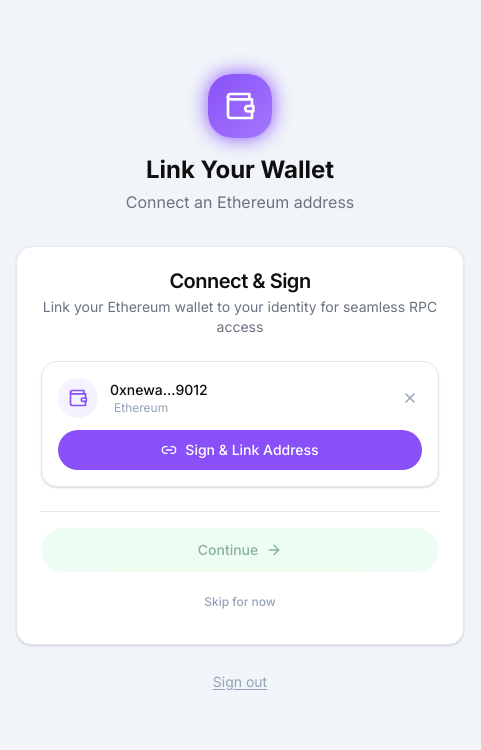
Test: LinkWalletPage › Link Wallet Flow › should show error when signing fails
This screenshot has width=481, height=750.
Click the button "Sign & Link Address": (240, 450) [58, 430, 422, 470]
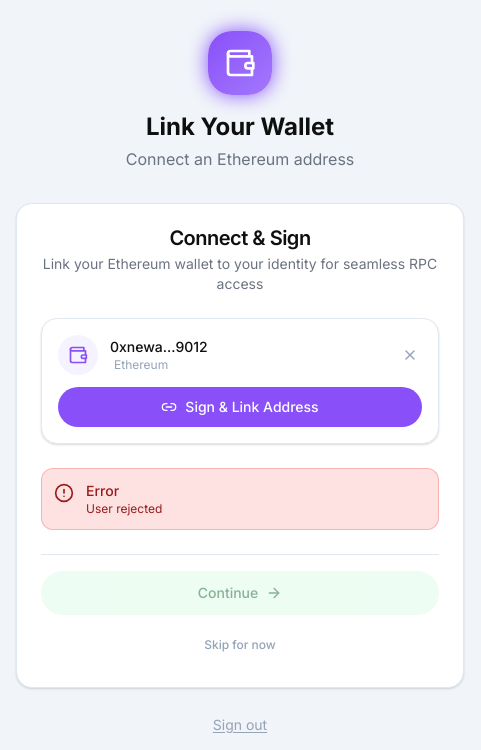
Check: the text "Error" is shown, box [86, 482, 119, 498]
Check: the text "User rejected" is shown, box [86, 500, 162, 516]
